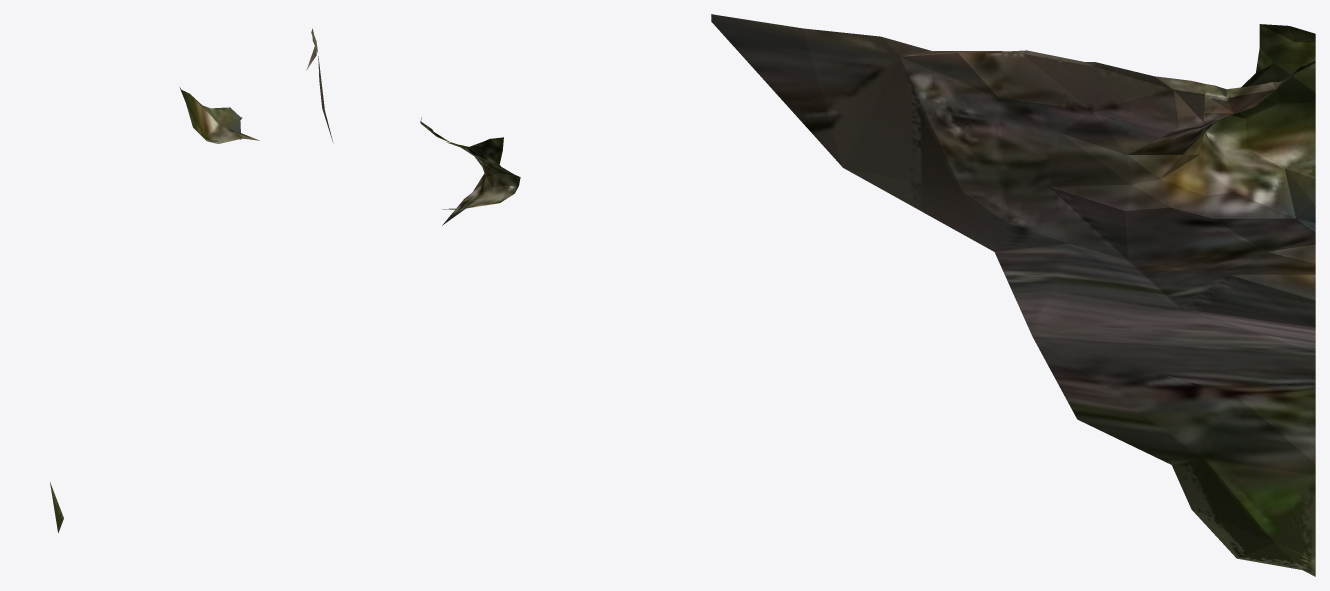
3 views of the same model, side by side, from view 1: azimuth 30°, elevation 25°; view 2: azimuth 150°, elevation 25°; view 3: azimuth 270°, elevation 25° (orthographic). The views are drawn at different scales.
Size of the model in its own units: 1.68 by 3.04 by 2.53.
Materials: 2 (2 with a texture image).
